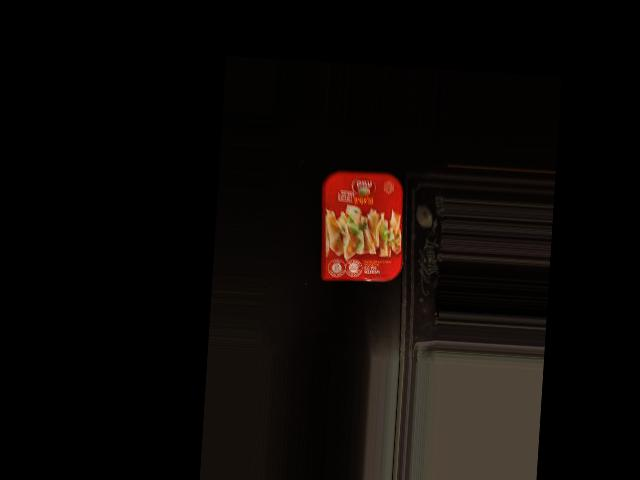cheese: (314, 166, 408, 282)
